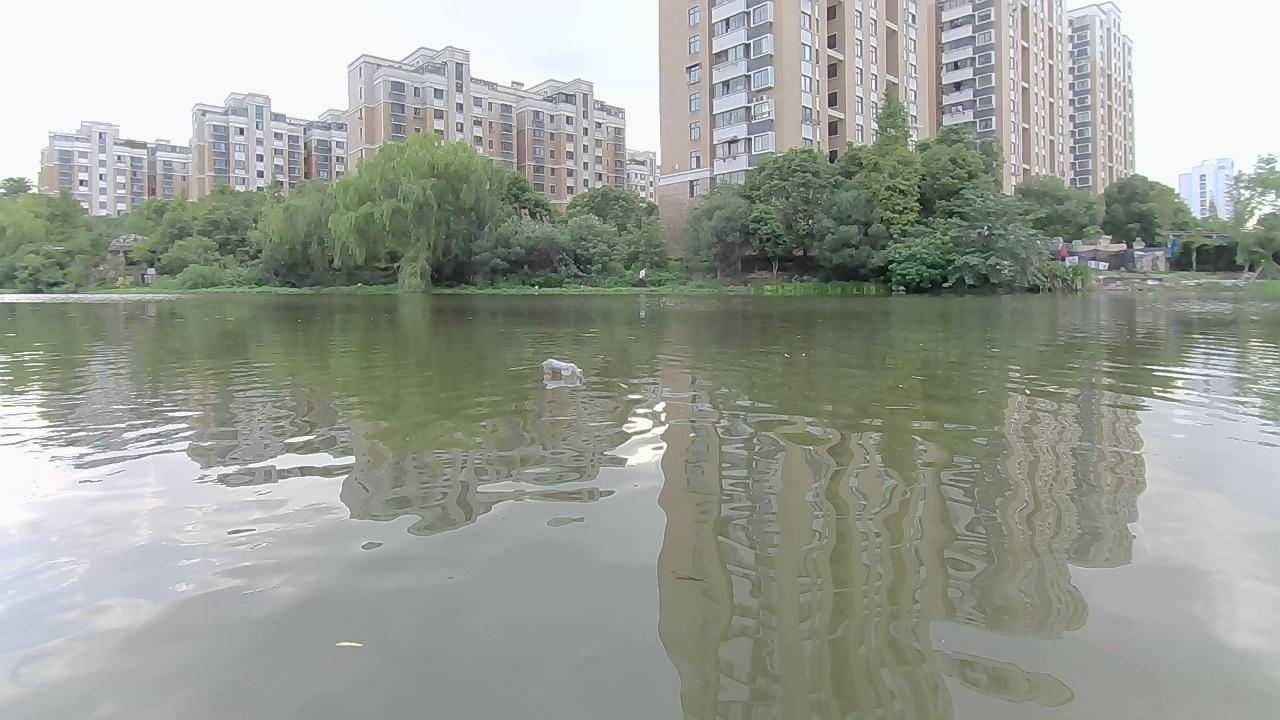bottle: (539, 355, 585, 382)
